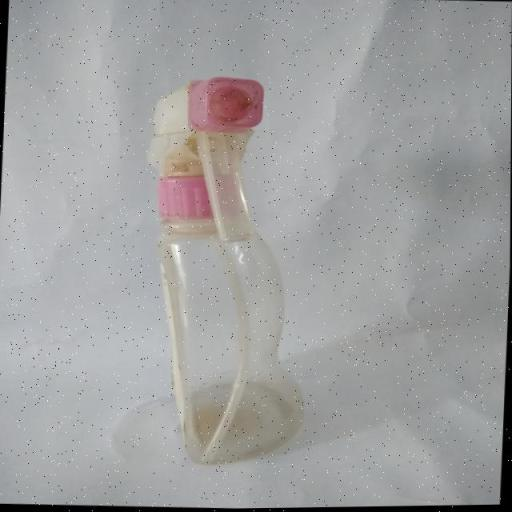plastic: (105, 66, 378, 472)
